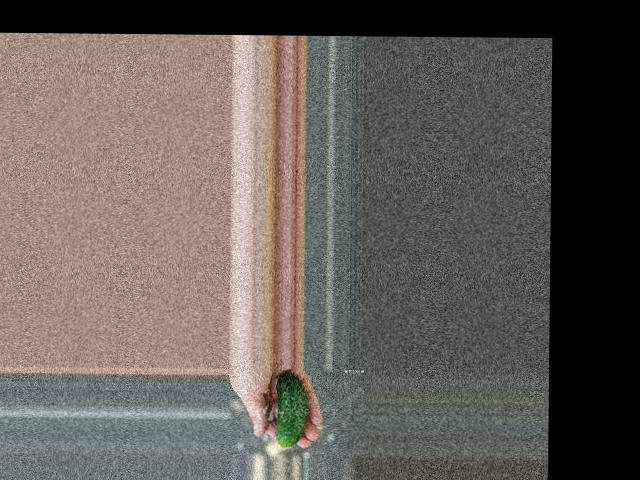cucumber: (276, 372, 309, 446)
